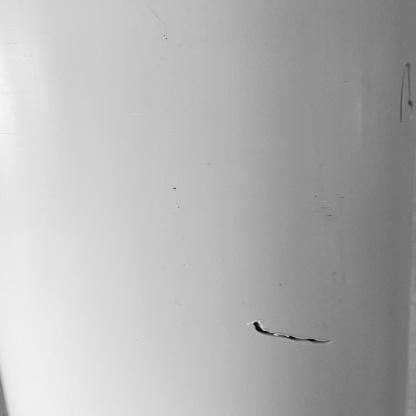fengxi: (242, 314, 341, 351), (401, 57, 413, 128)
